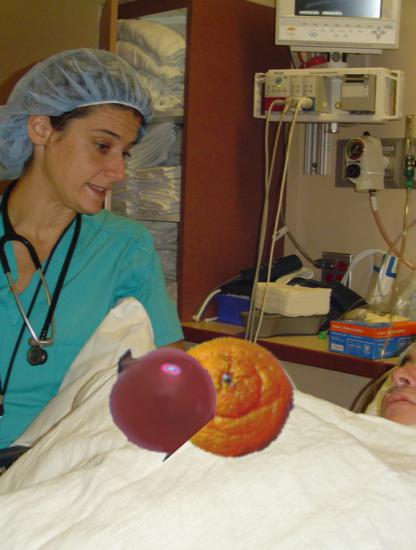Mandarine: (163, 332, 295, 464)
Redcurrant: (104, 341, 213, 450)
